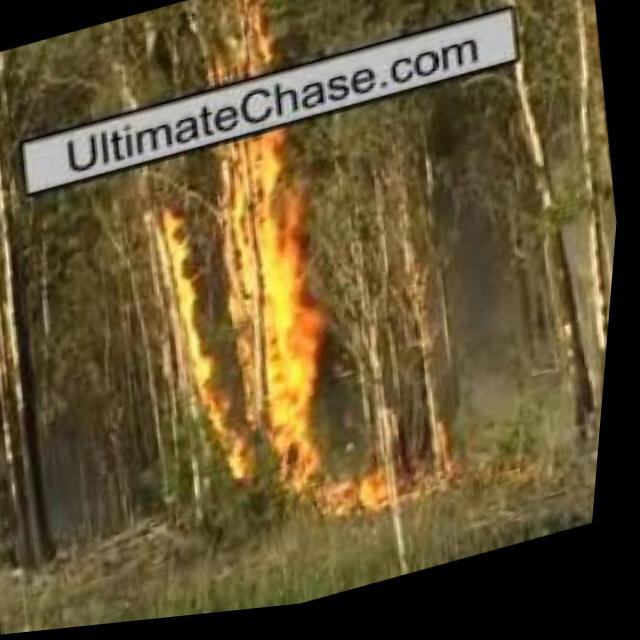Fire: (126, 176, 362, 510), (181, 24, 299, 212), (328, 478, 404, 540)
